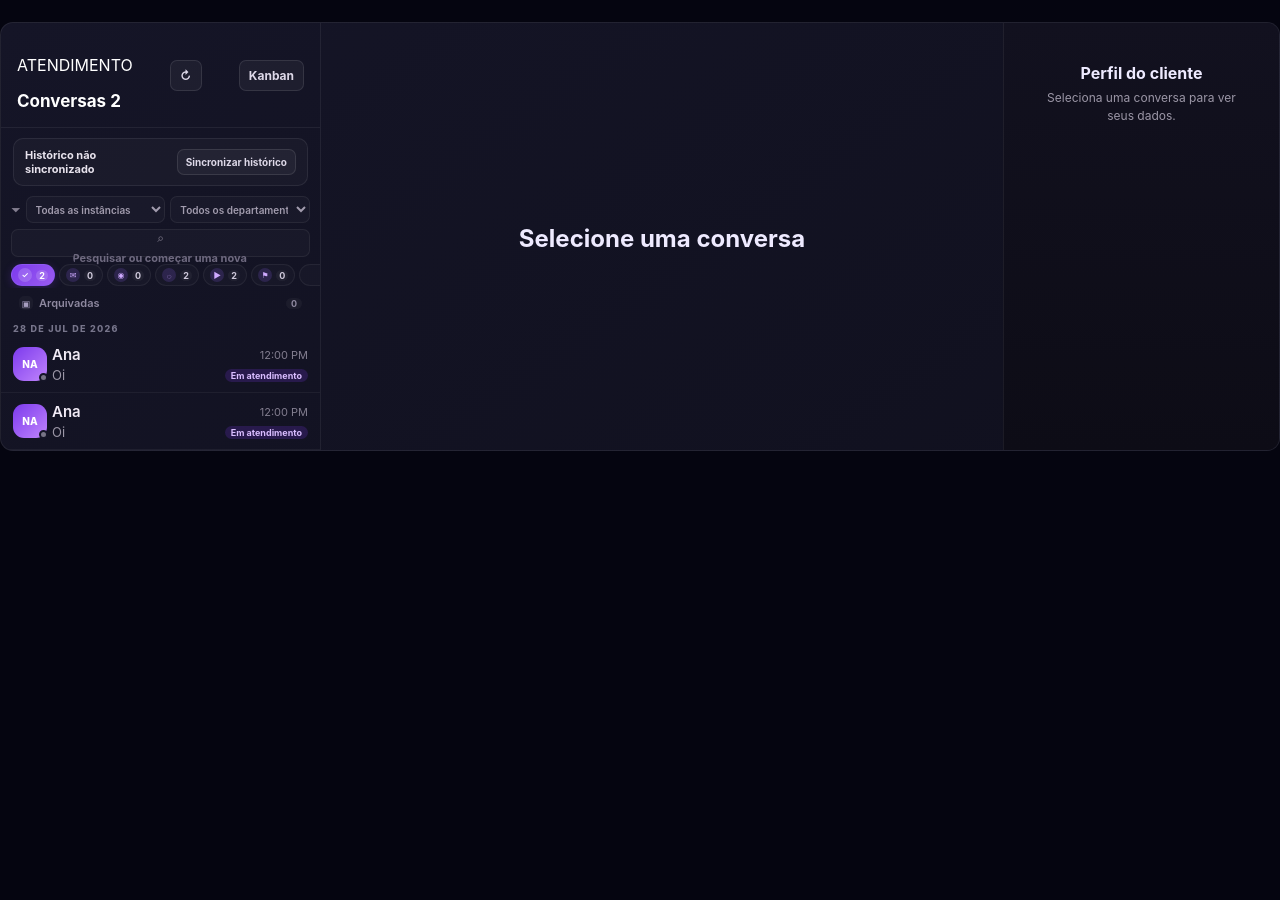
it: falha ao carregar as mensagens de uma conversa › o aviso não acompanha o operador para a próxima conversa
Click the 1st button "NA Ana 12:00 PM Oi Em atendimento": (30, 364) [1,336,320,393]
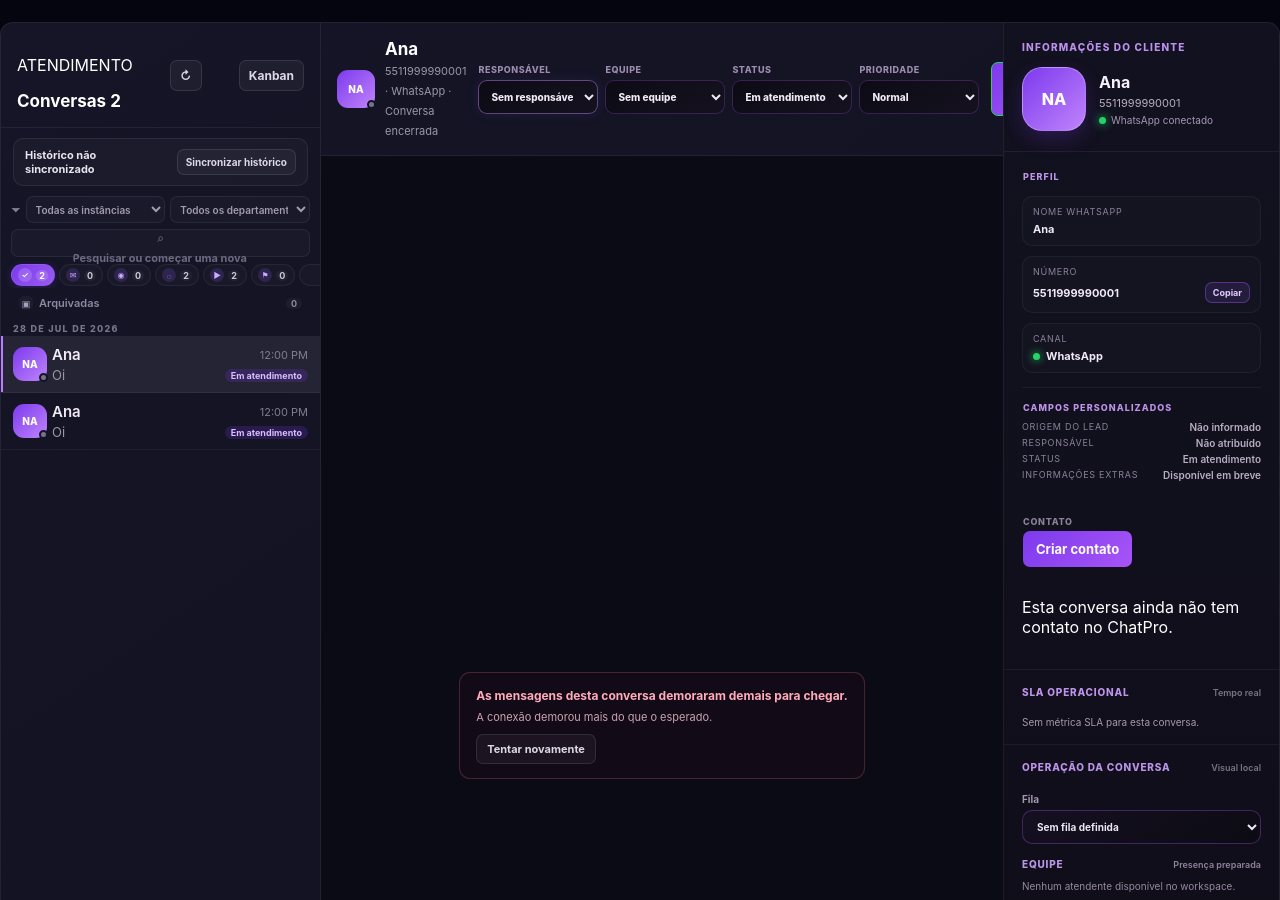
Now the text "As mensagens desta conversa demoraram demais para chegar." is shown, box [476,686,848,704]
Click the 2nd button "NA Ana 12:00 PM Oi Em atendimento": (30, 421) [1,393,320,450]
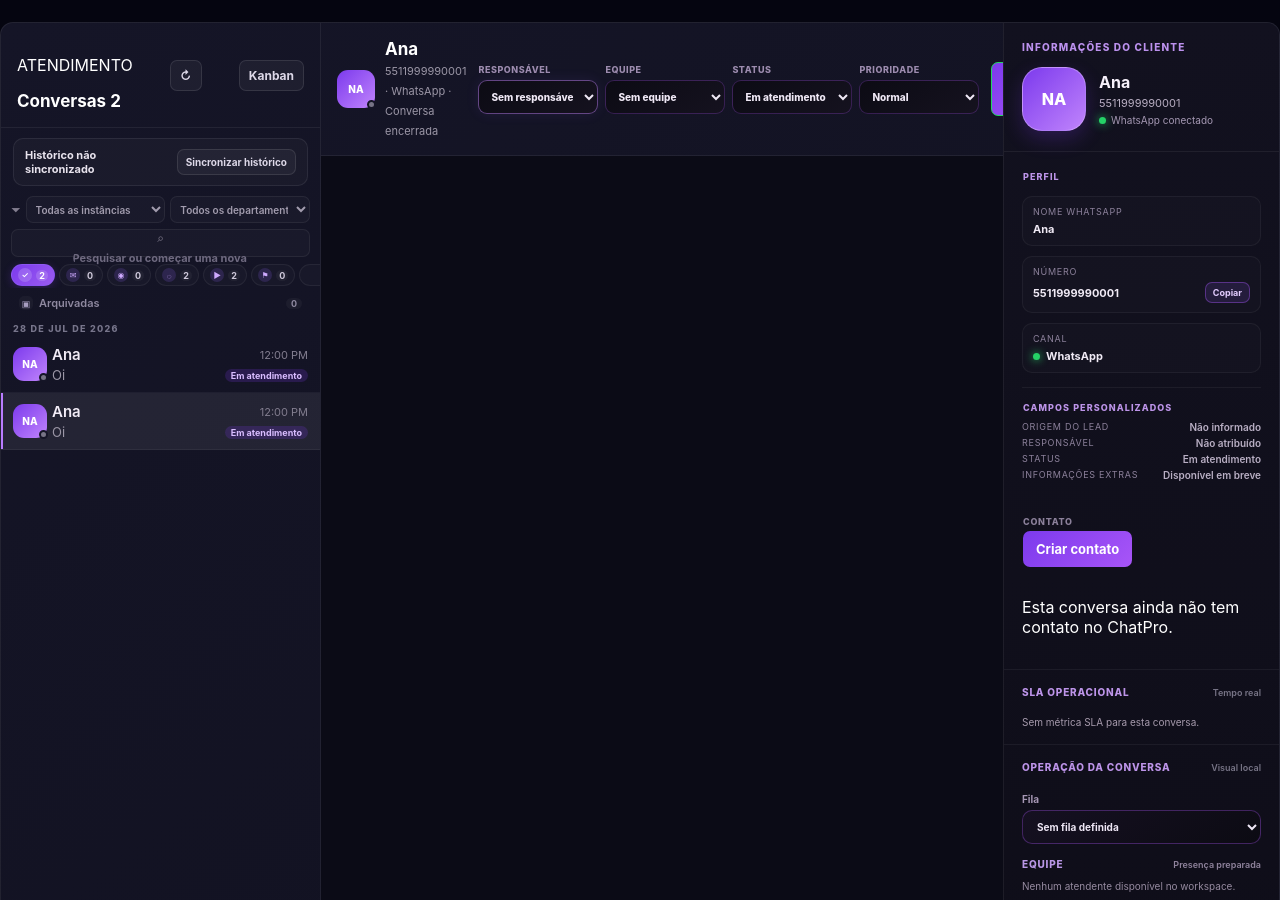
Now the text "As mensagens desta conversa demoraram demais para chegar." is gone
